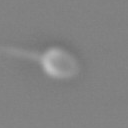normal: (1, 38, 41, 66)
